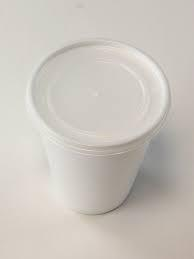Plastic cup: (28, 35, 172, 226)
